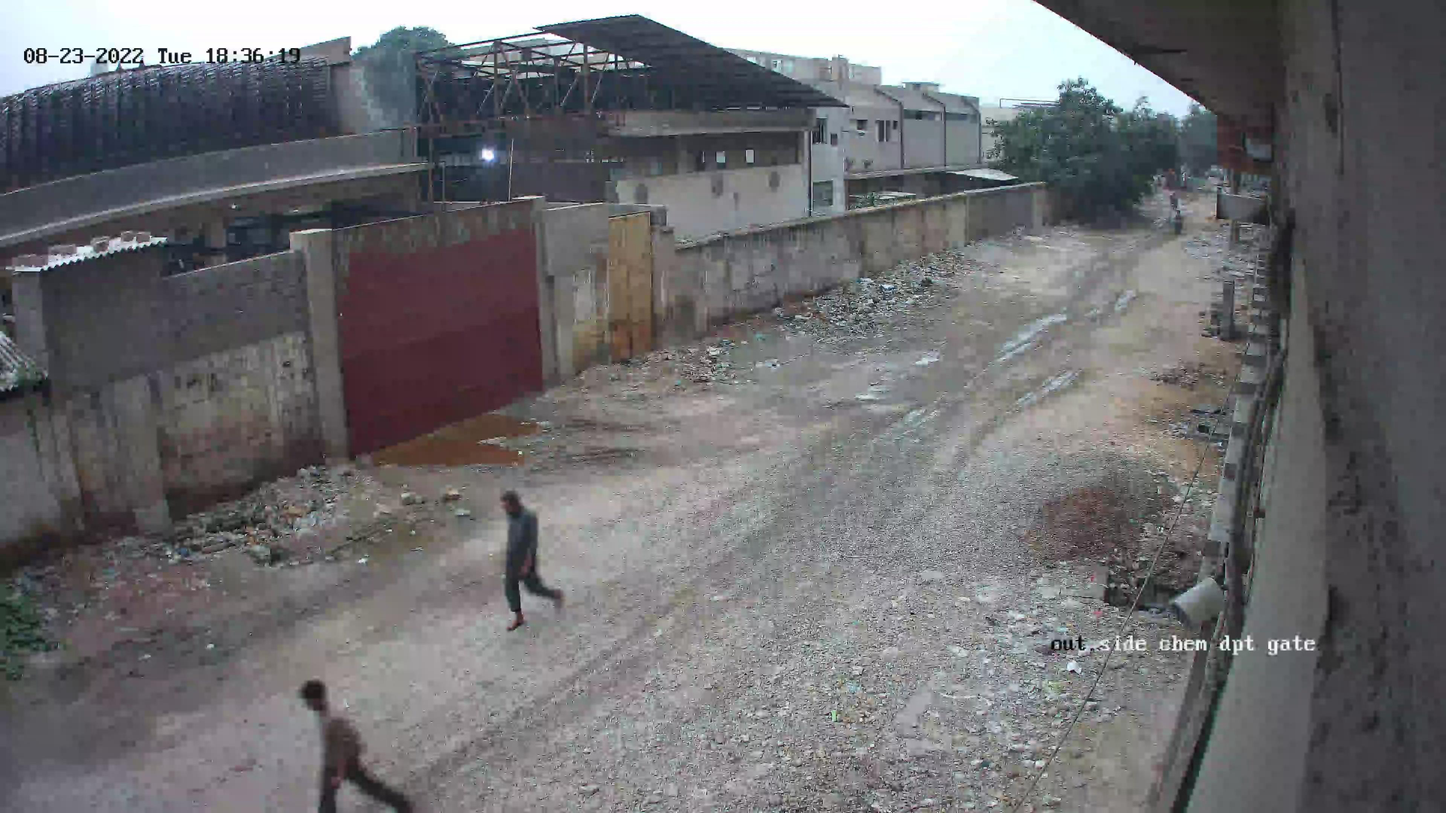person: (296, 670, 400, 813), (496, 489, 565, 627)
